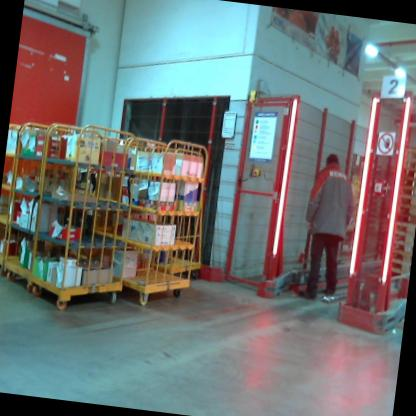pallet: (387, 250, 411, 265), (389, 230, 414, 244), (387, 260, 410, 275), (393, 204, 416, 218), (395, 155, 416, 170), (398, 144, 416, 160), (392, 216, 416, 228), (388, 241, 412, 253), (397, 194, 416, 206), (398, 185, 416, 196), (390, 225, 413, 233), (401, 175, 416, 187), (402, 165, 416, 177)
